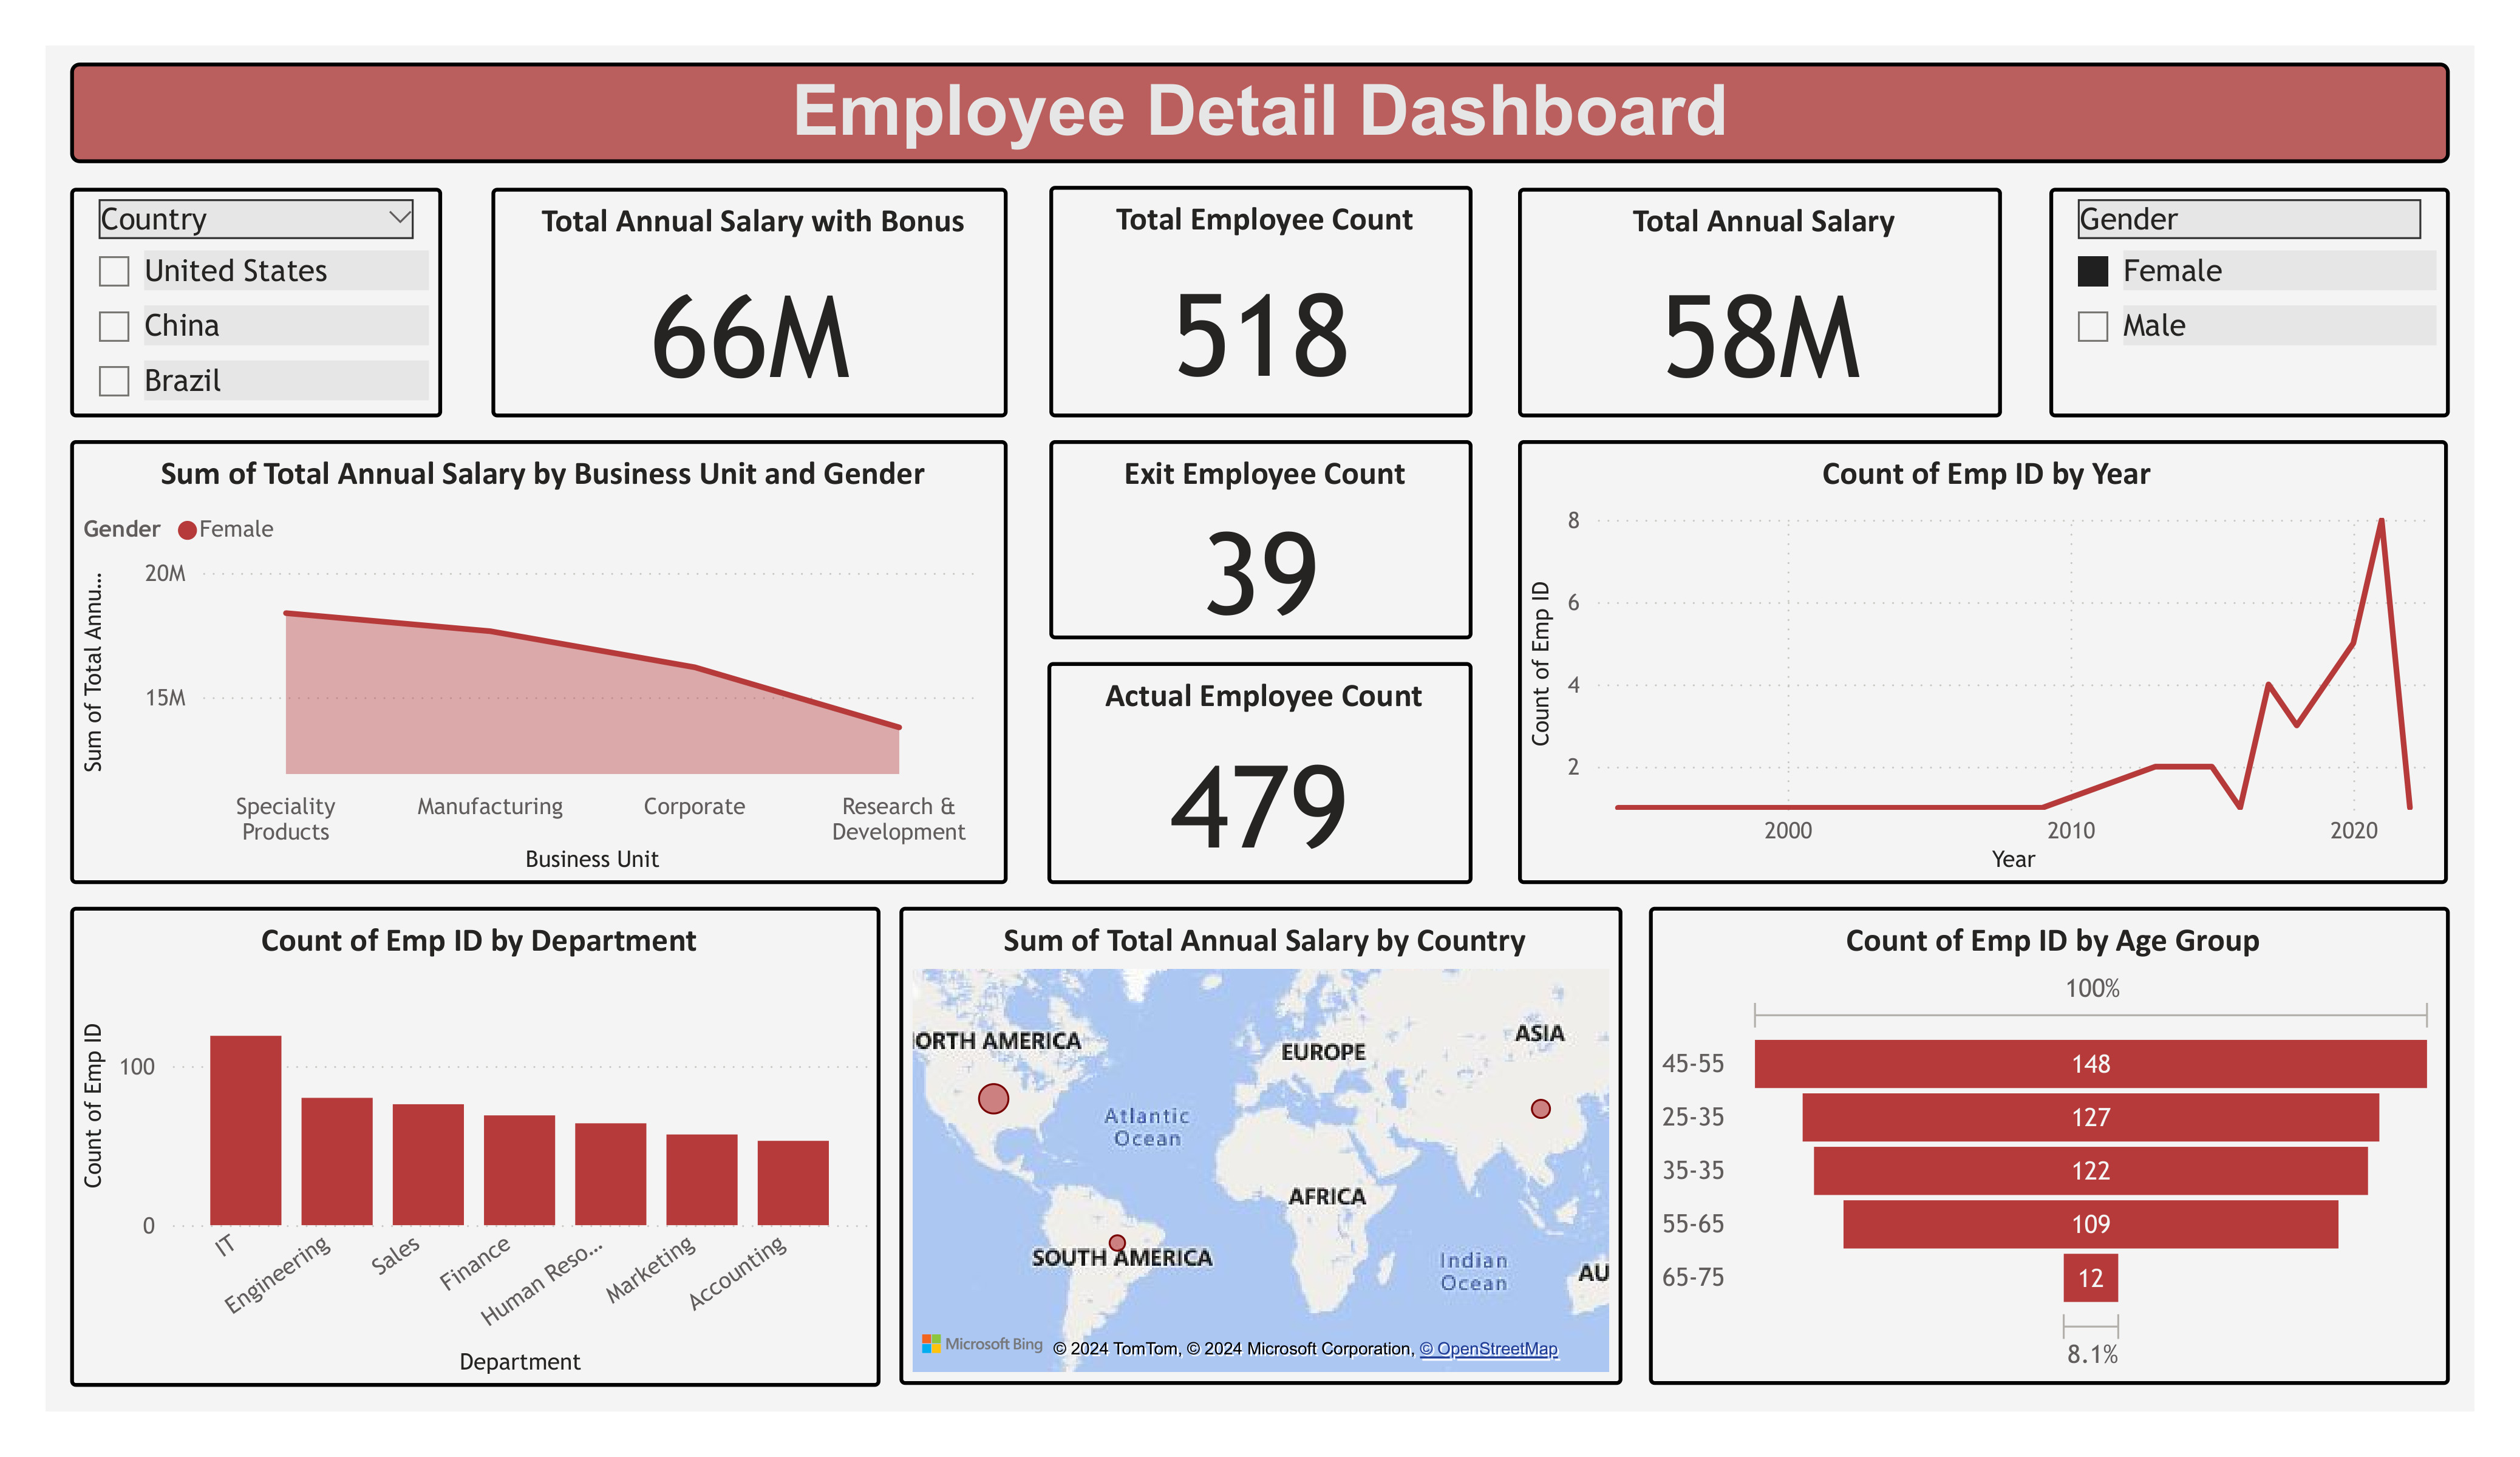

Layout of this report page (visuals, bound fields, positions):
{"tool":"powerbi","page":{"name":"Page 1","canvas":[1280,720],"ordinal":0},"visuals":[{"type":"textbox","box":[12.9,9.4,1254.1,52.9],"z":0},{"type":"card","title":"Total  Annual Salary with Bonus","fields":{"Values":["Sum(Sheet1.Total Annual Salary)"]},"box":[234.9,74.7,271.7,121],"z":1000},{"type":"card","title":"Total Employee Count","fields":{"Values":["CountNonNull(Sheet1.Emp ID.1)"]},"box":[529.2,73.6,223.1,122.2],"z":2000},{"type":"card","title":"Exit Employee Count","fields":{"Values":["CountNonNull(Sheet1.Exit Date)"]},"box":[529.4,208.2,222.4,104.7],"z":3000},{"type":"card","title":"Actual Employee Count","fields":{"Values":["Sum(Sheet1.Actual Exit)"]},"box":[528,325,224,117],"z":4000},{"type":"card","title":"Total Annual Salary","fields":{"Values":["Sum(Sheet1.Annual Salary)"]},"box":[776,74.7,255.1,121],"z":5000},{"type":"lineChart","fields":{"Y":["CountNonNull(Sheet1.Emp ID)"],"Category":["Sheet1.Exit Date.Variation.Date Hierarchy.Year"]},"box":[776.5,208.2,489.4,234.1],"z":6000},{"type":"columnChart","fields":{"Y":["CountNonNull(Sheet1.Emp ID)"],"Category":["Sheet1.Department"]},"box":[12.9,454.1,427.1,252.9],"z":7000},{"type":"map","fields":{"Category":["Sheet1.Country"],"Size":["Sum(Sheet1.Total Annual Salary)"]},"box":[450,453.6,381,252.4],"z":8000},{"type":"funnel","fields":{"Category":["Sheet1.Age Group"],"Y":["CountNonNull(Sheet1.Emp ID)"]},"box":[845.2,453.6,421.4,252.4],"z":9000},{"type":"areaChart","fields":{"Category":["Sheet1.Business Unit"],"Y":["Sum(Sheet1.Total Annual Salary)"],"Series":["Sheet1.Gender"]},"box":[12.9,208.2,494.1,234.1],"z":10000},{"type":"slicer","fields":{"Values":["Sheet1.Gender"]},"box":[1056,74.7,211.2,121],"z":11000},{"type":"slicer","fields":{"Values":["Sheet1.Country"]},"box":[12.9,75.3,196.5,121.2],"z":12000}]}

Visuals, with their boxes on the page's 1280x720 design canvas (x1, y1, x2, y2). These are canvas units, not pixel positions in the 2520x1457 screenshot, which may show the page scaled, cropped or inside an application window:
textbox: [x1=13, y1=9, x2=1267, y2=62]
"Total  Annual Salary with Bonus" card: [x1=235, y1=75, x2=507, y2=196]
"Total Employee Count" card: [x1=529, y1=74, x2=752, y2=196]
"Exit Employee Count" card: [x1=529, y1=208, x2=752, y2=313]
"Actual Employee Count" card: [x1=528, y1=325, x2=752, y2=442]
"Total Annual Salary" card: [x1=776, y1=75, x2=1031, y2=196]
lineChart - CountNonNull(Sheet1.Emp ID) x Sheet1.Exit Date.Variation.Date Hierarchy.Year: [x1=776, y1=208, x2=1266, y2=442]
columnChart - CountNonNull(Sheet1.Emp ID) x Sheet1.Department: [x1=13, y1=454, x2=440, y2=707]
map - Sheet1.Country x Sum(Sheet1.Total Annual Salary): [x1=450, y1=454, x2=831, y2=706]
funnel - Sheet1.Age Group x CountNonNull(Sheet1.Emp ID): [x1=845, y1=454, x2=1267, y2=706]
areaChart - Sheet1.Business Unit x Sum(Sheet1.Total Annual Salary): [x1=13, y1=208, x2=507, y2=442]
slicer - Sheet1.Gender: [x1=1056, y1=75, x2=1267, y2=196]
slicer - Sheet1.Country: [x1=13, y1=75, x2=209, y2=196]
